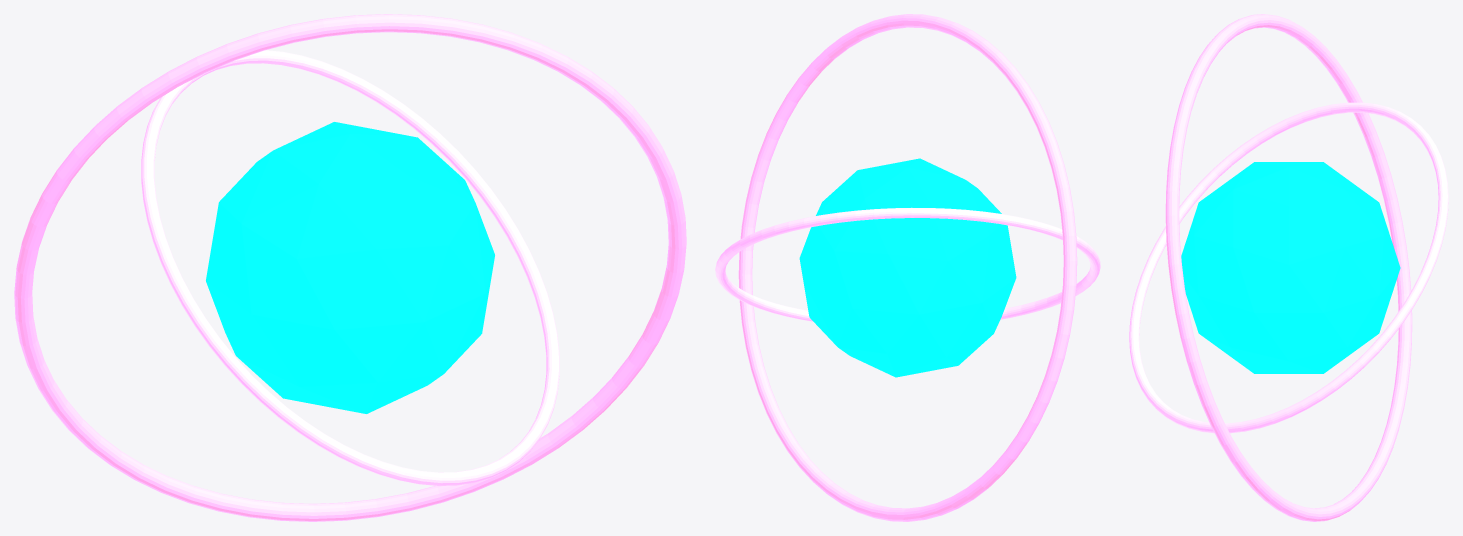
The model's file is vortex_core.glb.
3 views of the same model, side by side, from view 1: azimuth 30°, elevation 25°; view 2: azimuth 150°, elevation 25°; view 3: azimuth 270°, elevation 25° (orthographic). The views are drawn at different scales.
Visible parts, largest first — view 1: QuantumCore, OrbitalRing_2, OrbitalRing_1; view 2: QuantumCore, OrbitalRing_2, OrbitalRing_1; view 3: QuantumCore, OrbitalRing_2, OrbitalRing_1.
Boxes of the visible parts, box(x1,y1,x2,y2) form: QuantumCore: box(206, 122, 494, 413); OrbitalRing_2: box(14, 14, 686, 521); OrbitalRing_1: box(141, 50, 559, 485); QuantumCore: box(799, 158, 1016, 377); OrbitalRing_2: box(738, 14, 1077, 521); OrbitalRing_1: box(715, 207, 1100, 321); QuantumCore: box(1181, 162, 1400, 373); OrbitalRing_2: box(1165, 14, 1412, 521); OrbitalRing_1: box(1129, 102, 1448, 433).
Bounding box in the file's own units: 5.56 × 5.69 × 3.72.
